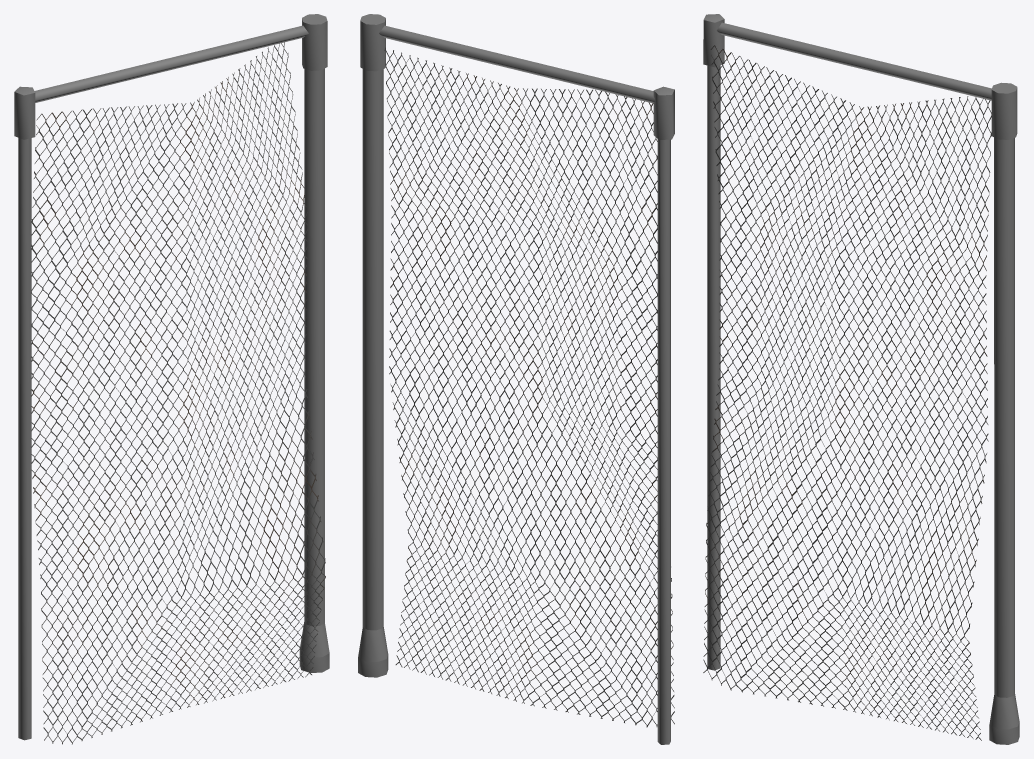
The picture shows the model from 3 angles, left to right: view 1: azimuth 30°, elevation 25°; view 2: azimuth 150°, elevation 25°; view 3: azimuth 330°, elevation 25°; orthographic projection.
Parts seen in each view (by area): view 1: body0_model0_lod0_mesh0, body0_model0_lod0_mesh1; view 2: body0_model0_lod0_mesh0, body0_model0_lod0_mesh1; view 3: body0_model0_lod0_mesh0, body0_model0_lod0_mesh1.
Boxes of the visible parts, <box> form: body0_model0_lod0_mesh0: <box>31,42,325,744</box>; body0_model0_lod0_mesh1: <box>14,14,329,740</box>; body0_model0_lod0_mesh0: <box>384,47,674,727</box>; body0_model0_lod0_mesh1: <box>358,14,674,744</box>; body0_model0_lod0_mesh0: <box>703,45,991,740</box>; body0_model0_lod0_mesh1: <box>703,14,1019,744</box>.
Bounding box in the file's own units: 131 × 262 × 23.59.
Materials: 2 (1 with a texture image).
